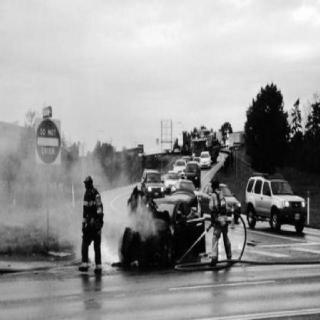other: (194, 199, 202, 219)
